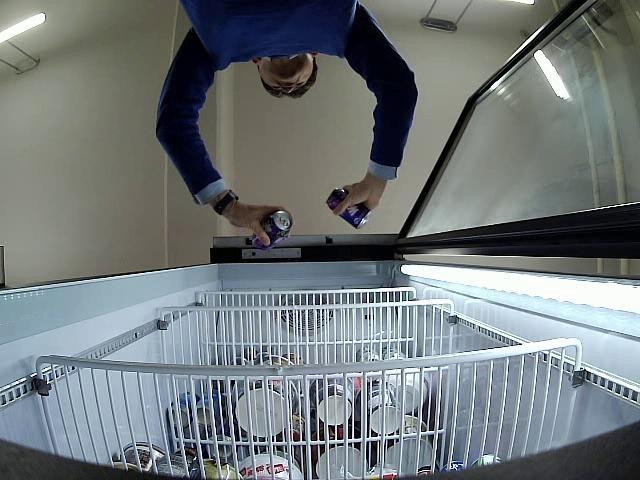14_welchsGrape: (326, 188, 371, 230), (250, 211, 296, 249)
